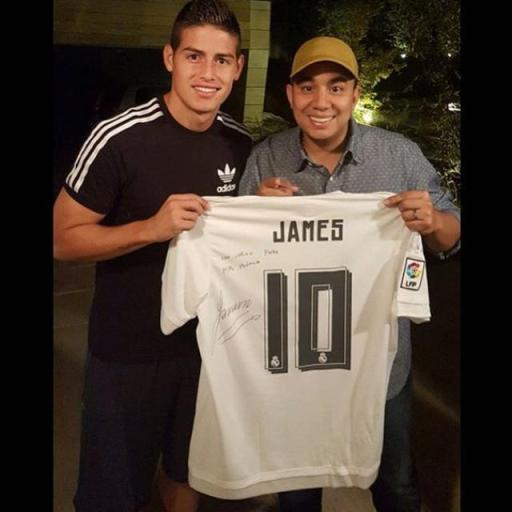Adidas: (212, 161, 240, 193)
